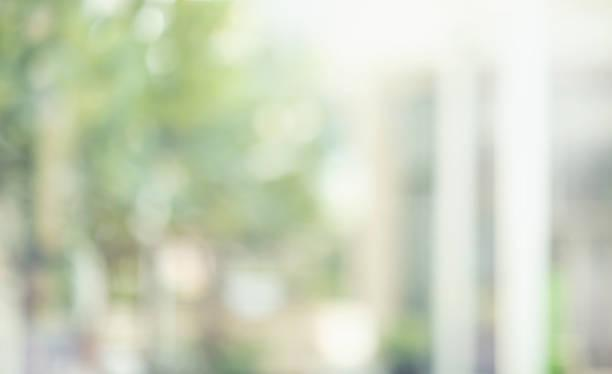Non_Gorille: (99, 17, 487, 340)
